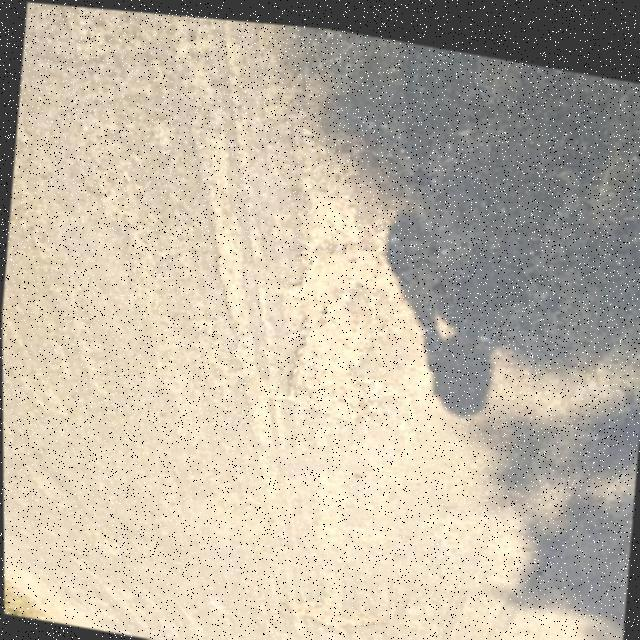pothole: (245, 183, 404, 434)
